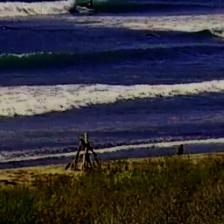surfer: (3, 25, 19, 31), (87, 0, 94, 10), (147, 32, 155, 38)
